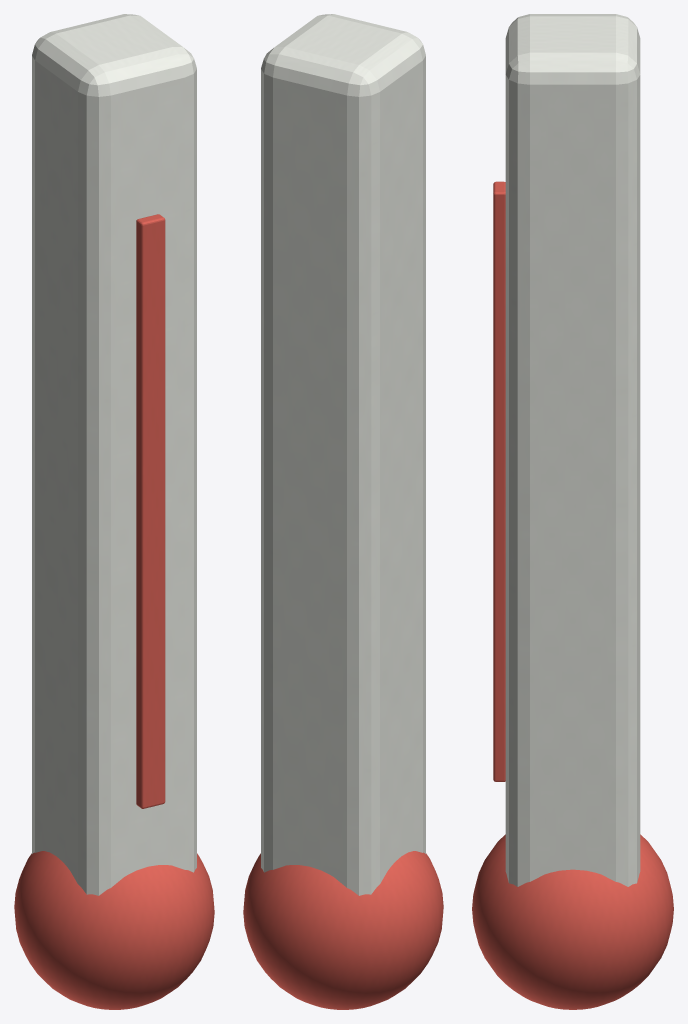
File: thermometer.glb
3 renders of one model, left to right at view 1: azimuth 30°, elevation 25°; view 2: azimuth 150°, elevation 25°; view 3: azimuth 270°, elevation 25°, orthographic.
Parts seen in each view (by area): view 1: Thermometer_Body, Thermometer_Bulb, Thermometer_Column; view 2: Thermometer_Body, Thermometer_Bulb; view 3: Thermometer_Body, Thermometer_Bulb, Thermometer_Column.
Boxes of the visible parts, x1,y1,x2,y2 form: Thermometer_Body: (32, 14, 196, 895); Thermometer_Bulb: (14, 851, 214, 1009); Thermometer_Column: (136, 214, 165, 808); Thermometer_Body: (261, 14, 425, 895); Thermometer_Bulb: (243, 851, 443, 1009); Thermometer_Body: (505, 14, 640, 886); Thermometer_Bulb: (472, 834, 673, 1009); Thermometer_Column: (493, 181, 505, 781).
Bounding box in the file's own units: 0.18 × 0.95 × 0.18.
3 materials, 3 textured.
